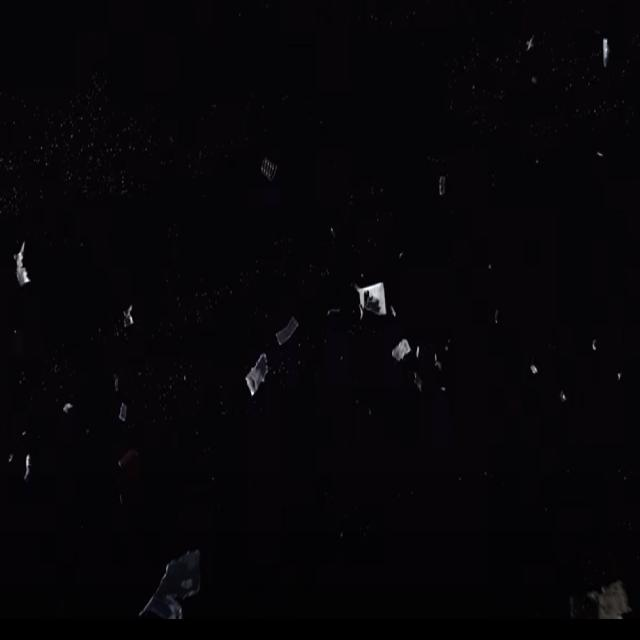large_debris: (140, 556, 210, 632), (588, 576, 635, 638), (344, 273, 390, 319), (243, 352, 275, 414), (11, 229, 34, 299), (274, 314, 308, 358), (116, 305, 153, 341), (14, 436, 42, 483), (387, 337, 413, 374), (258, 156, 283, 186)
